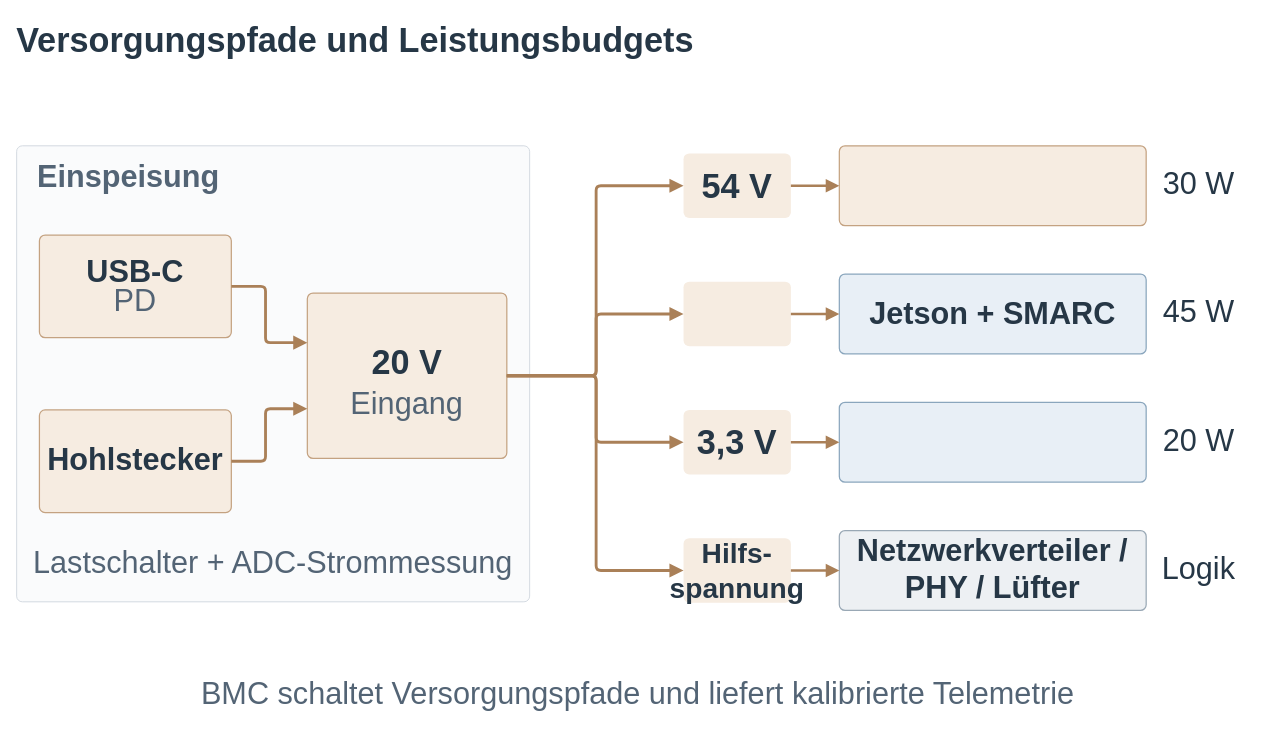
This 1276x737 diagram has some shape labels left out. The centre of each missing label's shape, as x and y in pixels:
5 V: (736,313)
M.2 + BMC: (992,441)
PoE-Ausgang: (992,185)
